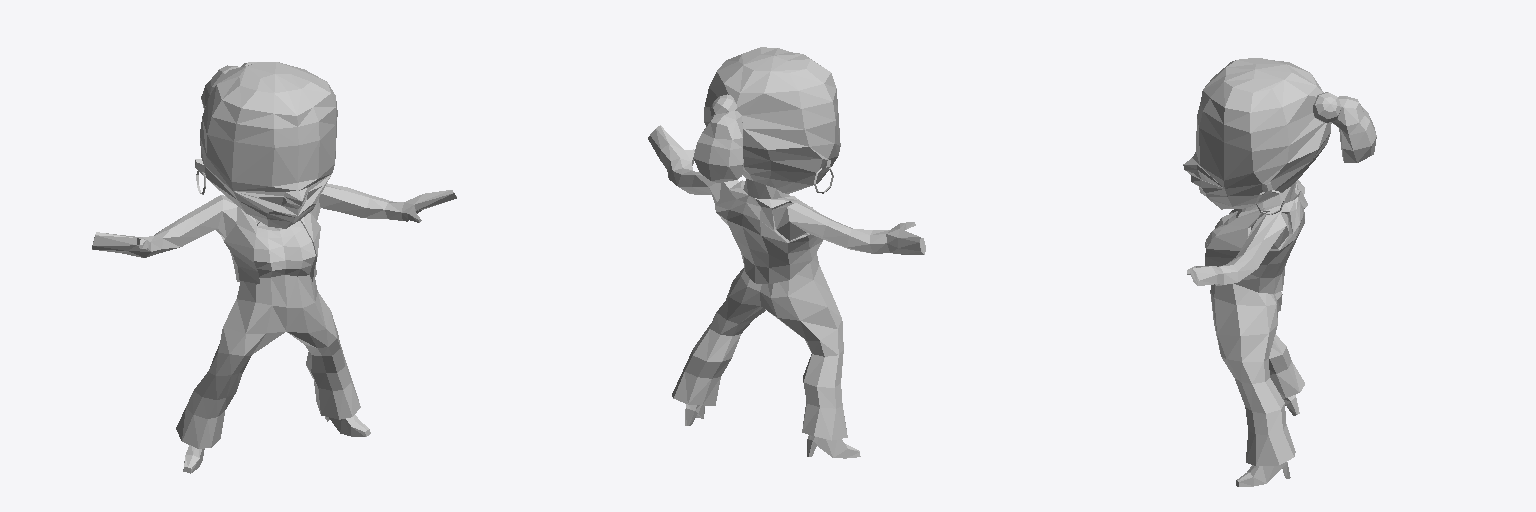
The model's file is bailarina_000185.obj.
3 views of the same model, side by side, from view 1: azimuth 30°, elevation 25°; view 2: azimuth 150°, elevation 25°; view 3: azimuth 270°, elevation 25° (orthographic).
Parts seen in each view (by area): view 1: bAilarina:Mesh; view 2: bAilarina:Mesh; view 3: bAilarina:Mesh.
Part boxes in pixels (x1,y1,x2,y2): bAilarina:Mesh: (92,62,456,473); bAilarina:Mesh: (648,47,925,458); bAilarina:Mesh: (1183,58,1376,486).
Size of the model in its own units: 14.83 by 16.69 by 7.74.